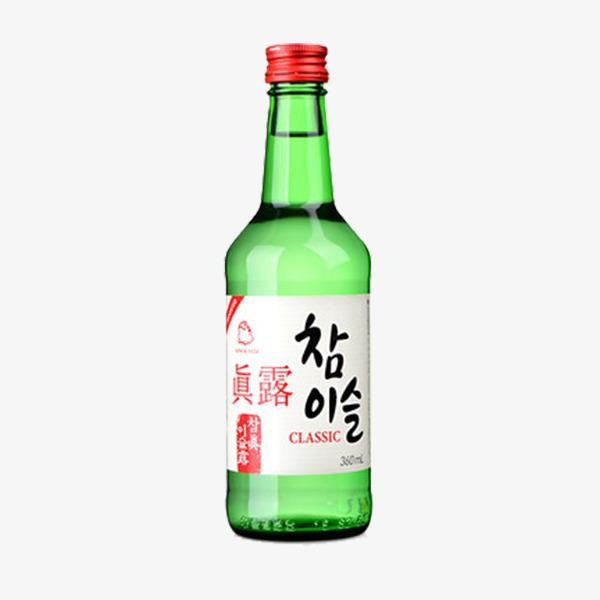soju: (224, 41, 380, 540)
